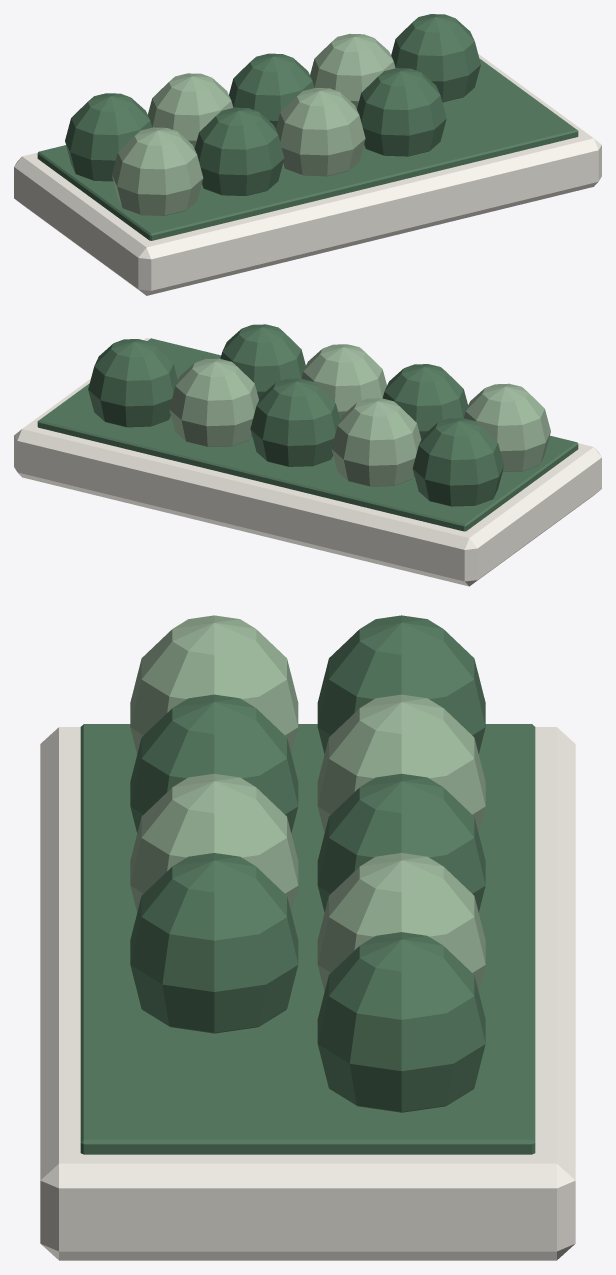
File: SM_GardenBed.obj
3 views of the same model, one above another, from view 1: azimuth 30°, elevation 25°; view 2: azimuth 150°, elevation 25°; view 3: azimuth 270°, elevation 25° (orthographic). The views are drawn at different scales.
Parts seen in each view (by area): view 1: SM_GardenBed; view 2: SM_GardenBed; view 3: SM_GardenBed.
Part boxes in pixels (bbox=[...]): SM_GardenBed: bbox=[14, 14, 601, 295]; SM_GardenBed: bbox=[14, 324, 601, 586]; SM_GardenBed: bbox=[40, 615, 575, 1260].
Size of the model in its own units: 4 by 1.03 by 2.
